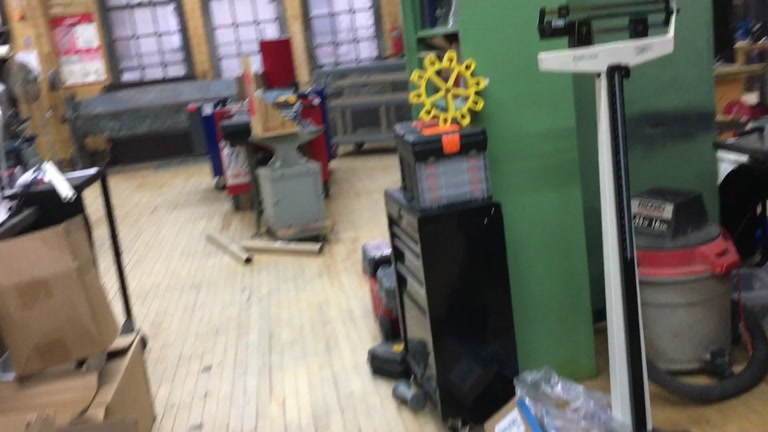gear: (406, 49, 484, 129)
